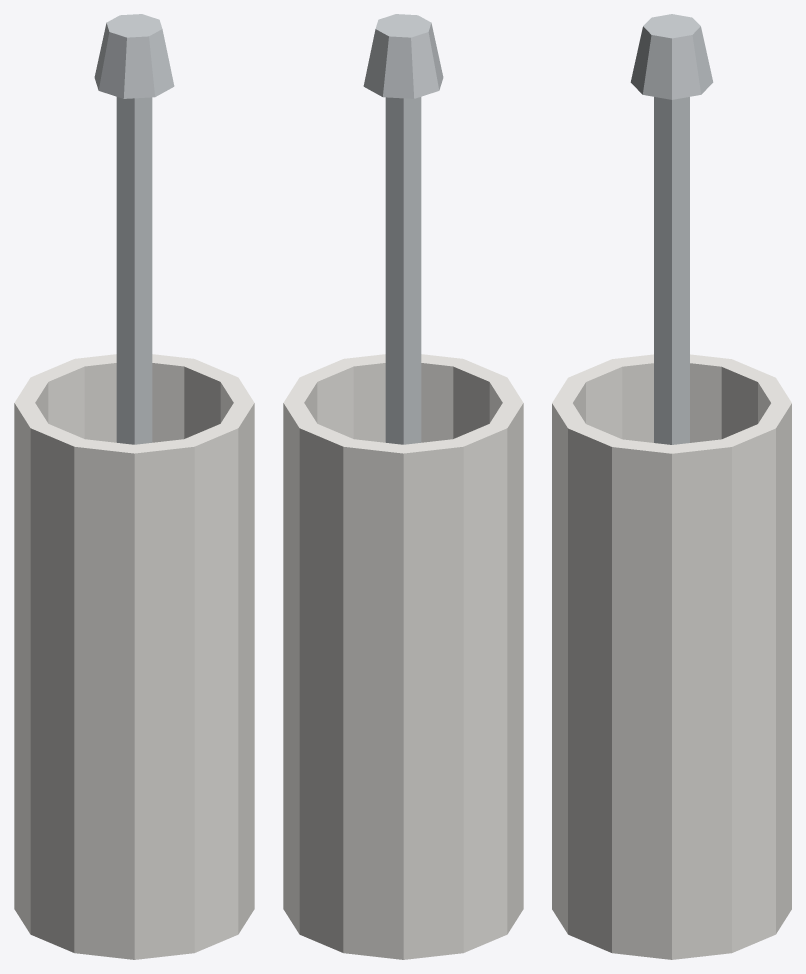
Rendered from SM_LPI_Bath_Brush_01.fbx.
3 views of the same model, side by side, from view 1: azimuth 30°, elevation 25°; view 2: azimuth 150°, elevation 25°; view 3: azimuth 270°, elevation 25° (orthographic).
Visible parts, largest first — view 1: SM_LPI_Bath_Brush_01; view 2: SM_LPI_Bath_Brush_01; view 3: SM_LPI_Bath_Brush_01.
Boxes of the visible parts, x1=… form: SM_LPI_Bath_Brush_01: x1=14, y1=14, x2=254, y2=959; SM_LPI_Bath_Brush_01: x1=283, y1=14, x2=523, y2=959; SM_LPI_Bath_Brush_01: x1=552, y1=14, x2=791, y2=959.
Bounding box in the file's own units: 0.116 × 0.471 × 0.116.
